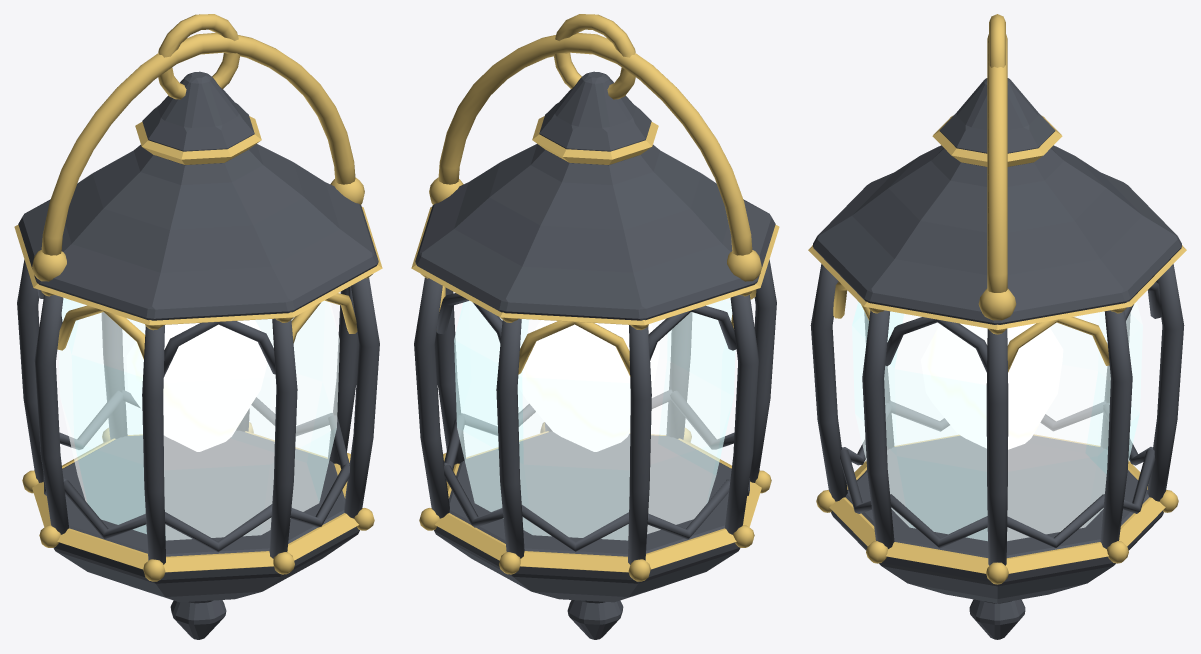
File: ghost_lantern.glb
3 renders of one model, left to right at view 1: azimuth 30°, elevation 25°; view 2: azimuth 150°, elevation 25°; view 3: azimuth 270°, elevation 25°, orthographic.
Parts seen in each view (by area): view 1: LanternHood, LanternGlass, LanternBase, LanternCore, LanternBail, LanternBrassBaseTrim, LanternStrut_4, LanternStrut_7, LanternStrut_6, LanternStrut_5, LanternStrut_3, LanternRing (+14 smaller); view 2: LanternHood, LanternGlass, LanternBase, LanternCore, LanternBail, LanternBrassBaseTrim, LanternStrut_4, LanternStrut_1, LanternStrut_2, LanternStrut_3, LanternStrut_5, LanternRing (+14 smaller); view 3: LanternHood, LanternGlass, LanternBase, LanternCore, LanternBrassBaseTrim, LanternStrut_1, LanternStrut_7, LanternStrut_0, LanternBail, LanternStrut_6, LanternStrut_2, LanternBrassRoofTrim (+11 smaller).
Part boxes in pixels (x1=…): LanternHood: x1=18, y1=71, x2=378, y2=320; LanternGlass: x1=58, y1=298, x2=339, y2=540; LanternBase: x1=53, y1=430, x2=359, y2=639; LanternCore: x1=126, y1=320, x2=267, y2=451; LanternBail: x1=41, y1=33, x2=355, y2=255; LanternBrassBaseTrim: x1=32, y1=431, x2=358, y2=572; LanternStrut_4: x1=34, y1=295, x2=68, y2=534; LanternStrut_7: x1=344, y1=277, x2=379, y2=518; LanternStrut_6: x1=269, y1=318, x2=297, y2=558; LanternStrut_5: x1=142, y1=325, x2=165, y2=564; LanternStrut_3: x1=17, y1=259, x2=43, y2=482; LanternRing: x1=158, y1=14, x2=240, y2=99; LanternHood: x1=415, y1=71, x2=775, y2=320; LanternGlass: x1=454, y1=298, x2=735, y2=540; LanternBase: x1=434, y1=431, x2=740, y2=639; LanternCore: x1=518, y1=320, x2=659, y2=451; LanternBail: x1=438, y1=33, x2=752, y2=255; LanternBrassBaseTrim: x1=435, y1=431, x2=761, y2=572; LanternStrut_4: x1=725, y1=295, x2=759, y2=534; LanternStrut_1: x1=414, y1=277, x2=449, y2=518; LanternStrut_2: x1=496, y1=318, x2=524, y2=558; LanternStrut_3: x1=628, y1=325, x2=651, y2=564; LanternStrut_5: x1=750, y1=259, x2=776, y2=482; LanternRing: x1=553, y1=14, x2=635, y2=99; LanternHood: x1=813, y1=78, x2=1181, y2=324; LanternGlass: x1=852, y1=302, x2=1142, y2=540; LanternBase: x1=831, y1=435, x2=1163, y2=639; LanternCore: x1=921, y1=323, x2=1063, y2=449; LanternBrassBaseTrim: x1=829, y1=434, x2=1165, y2=573; LanternStrut_1: x1=1100, y1=310, x2=1132, y2=548; LanternStrut_7: x1=862, y1=310, x2=894, y2=548; LanternStrut_0: x1=986, y1=329, x2=1008, y2=565; LanternBail: x1=987, y1=34, x2=1007, y2=292; LanternStrut_6: x1=810, y1=264, x2=847, y2=501; LanternStrut_2: x1=1147, y1=264, x2=1184, y2=501; LanternBrassRoofTrim: x1=808, y1=245, x2=1186, y2=329.
Size of the model in its own units: 0.125 by 0.2258 by 0.125.
